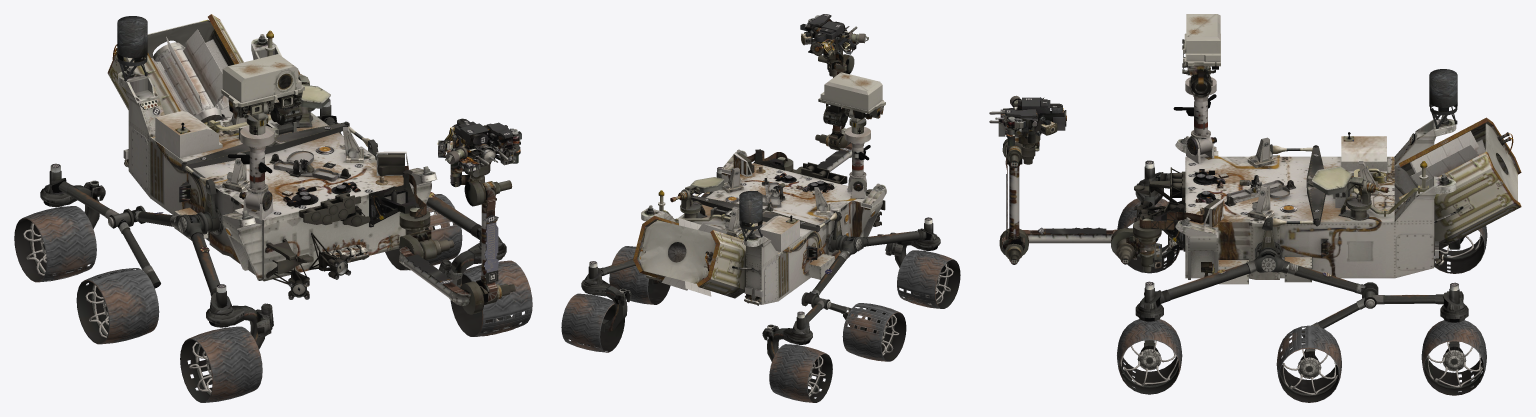
File: curiosity.glb
The picture shows the model from 3 angles, left to right: view 1: azimuth 30°, elevation 25°; view 2: azimuth 150°, elevation 25°; view 3: azimuth 270°, elevation 25°; orthographic projection. The views are drawn at different scales.
Parts seen in each view (by area): view 1: MSL; view 2: MSL; view 3: MSL.
Part boxes in pixels (x1,y1,x2,y2): MSL: (14, 14, 532, 402); MSL: (561, 14, 960, 402); MSL: (989, 14, 1521, 402).
Size of the model in its own units: 2.78 by 2.22 by 3.94.
Materials: 9 (8 with a texture image).
